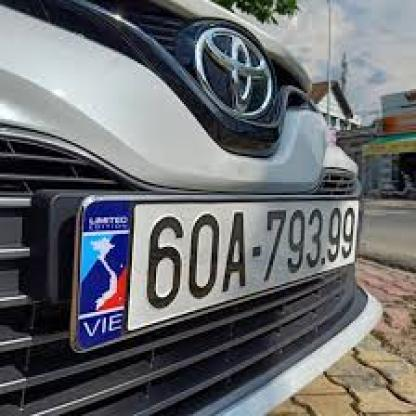biensoxe: (74, 195, 365, 354)
